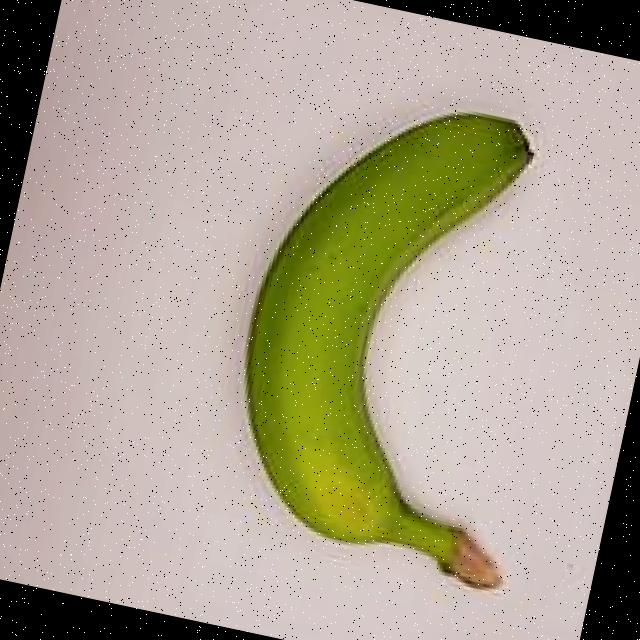Unripe: (156, 20, 640, 619)
